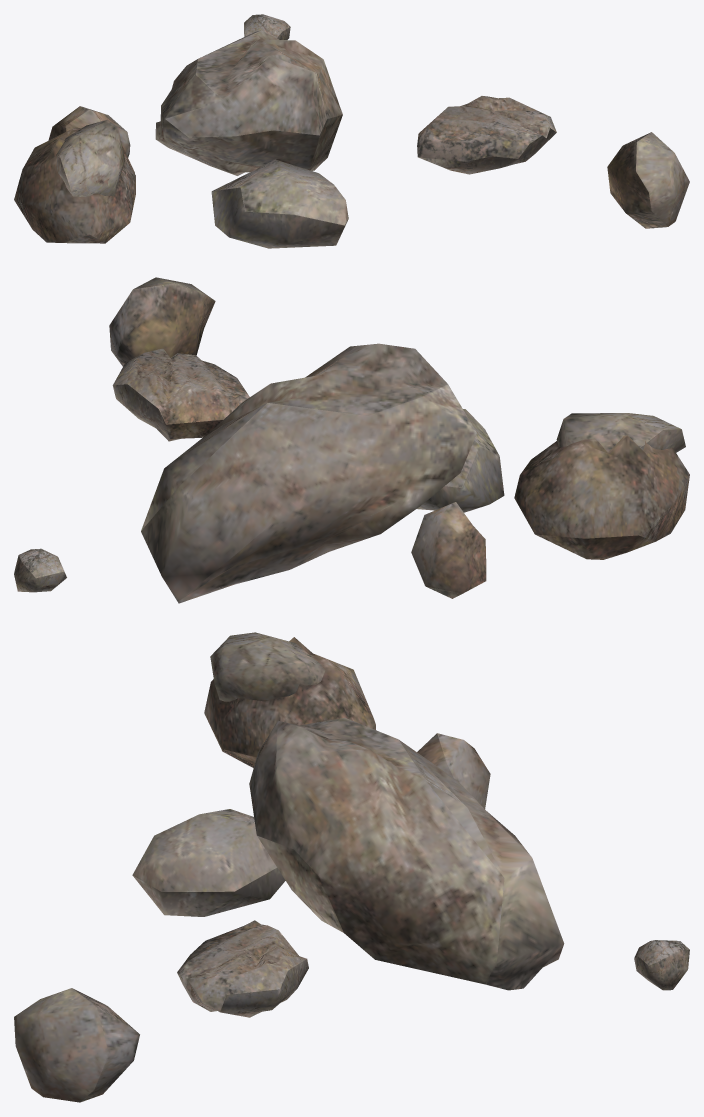
File: SM_Stone15.FBX
The picture shows the model from 3 angles, top to bottom: view 1: azimuth 30°, elevation 25°; view 2: azimuth 150°, elevation 25°; view 3: azimuth 270°, elevation 25°; orthographic projection. The views are drawn at different scales.
Visible parts, largest first — view 1: SM_Stone15; view 2: SM_Stone15; view 3: SM_Stone15.
Part boxes in pixels (x1,y1,x2,y2): SM_Stone15: (14, 14, 689, 248); SM_Stone15: (14, 277, 689, 603); SM_Stone15: (14, 632, 689, 1102).
Size of the model in its own units: 511 by 437 by 153.
